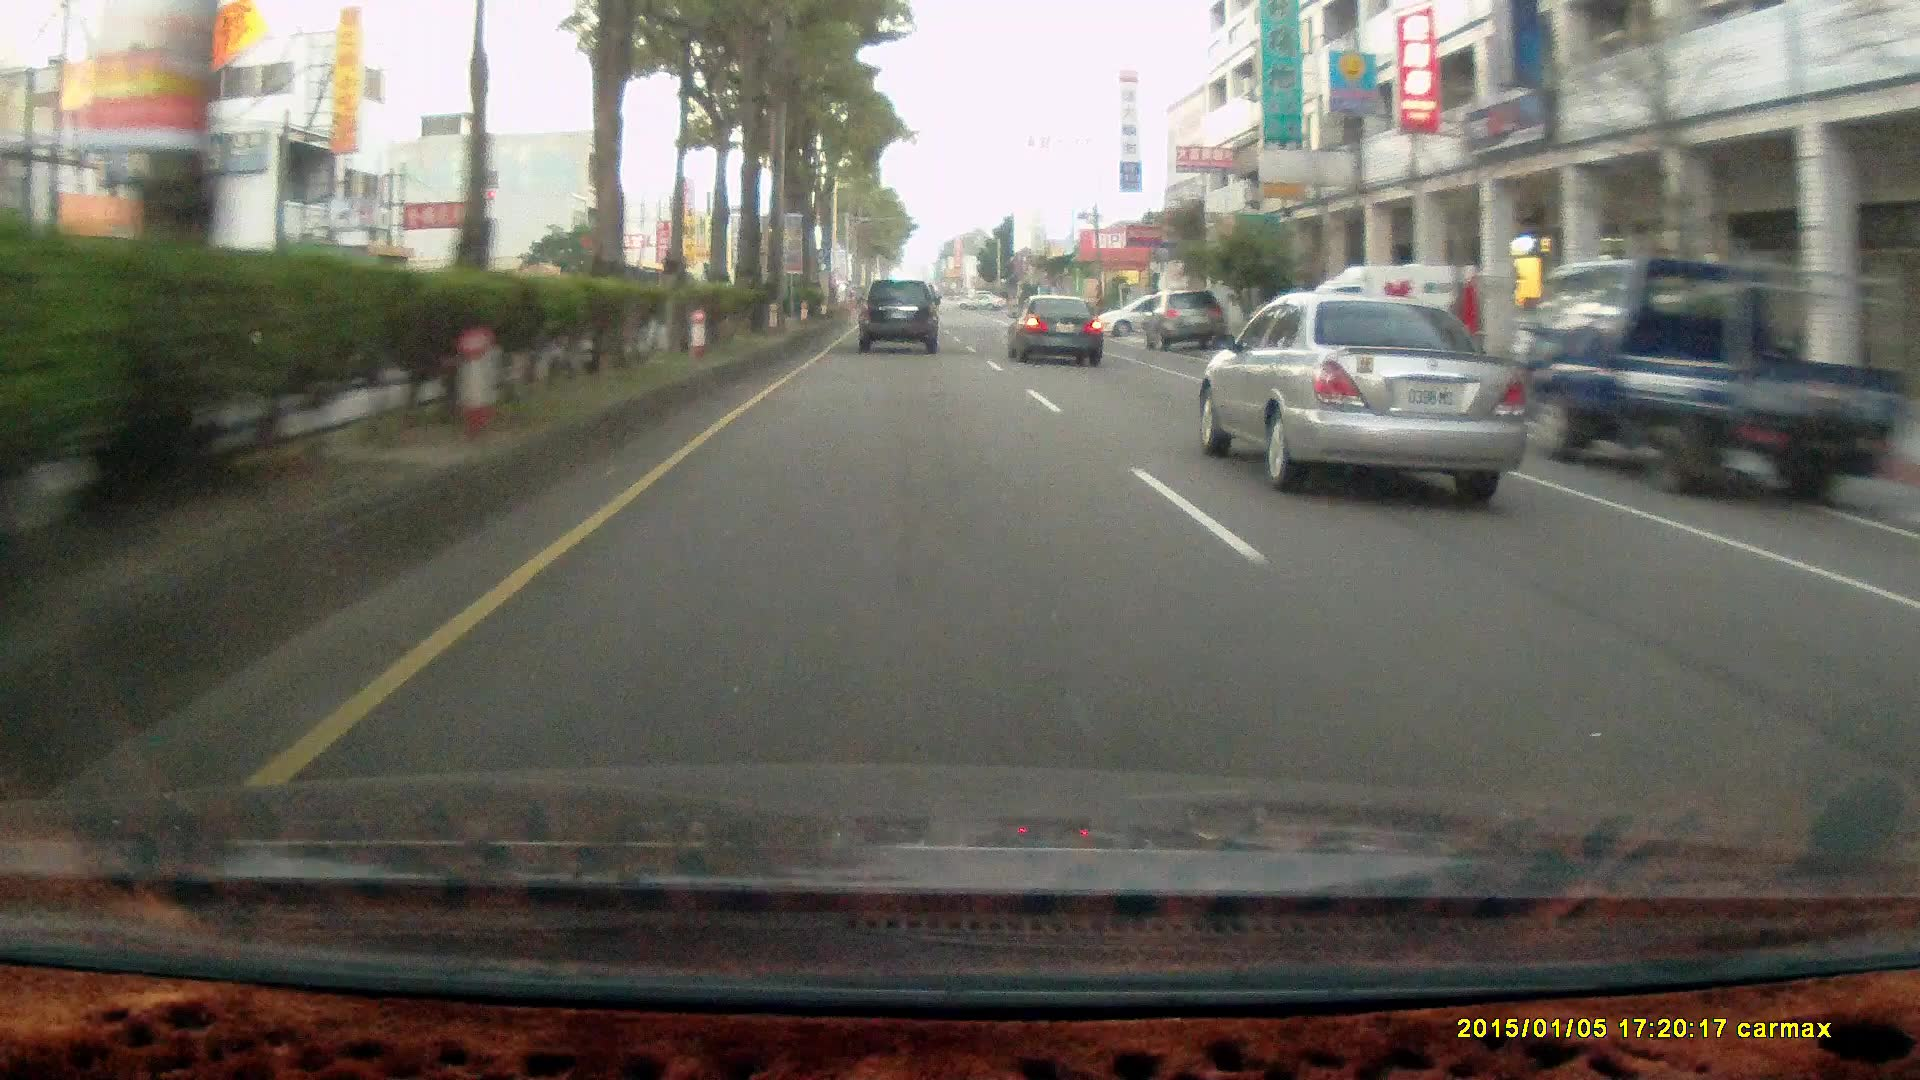vehicle: (1505, 256, 1900, 505), (1528, 257, 1886, 506), (1205, 289, 1534, 493), (1302, 262, 1487, 382), (1302, 262, 1485, 382), (1006, 293, 1108, 368), (1007, 290, 1102, 363), (857, 282, 943, 360), (857, 277, 938, 352), (1147, 290, 1228, 355)
